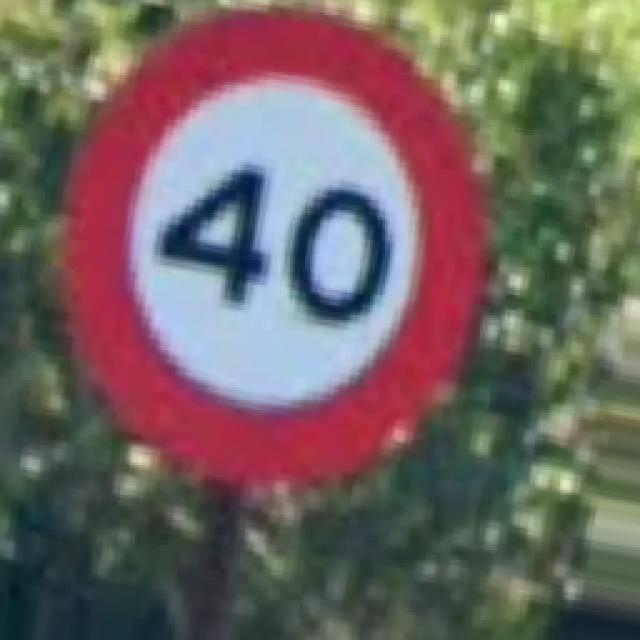Speed Limit -40-: (65, 10, 482, 488)
